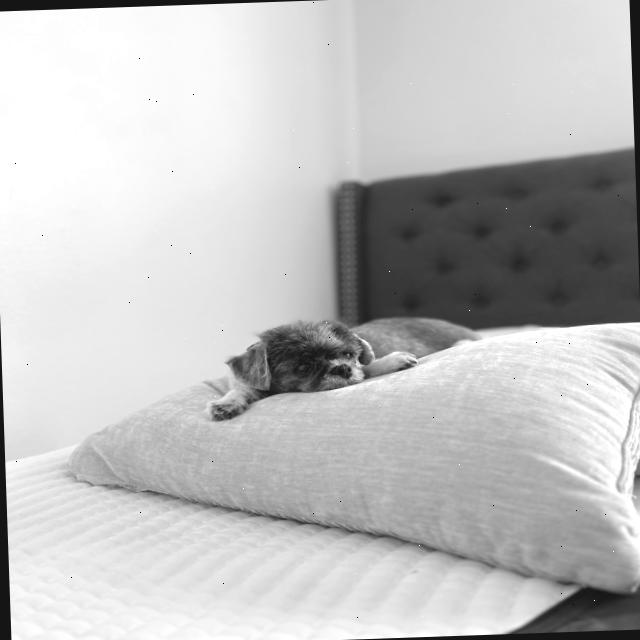shih_tzu_dog: (222, 314, 378, 401)
